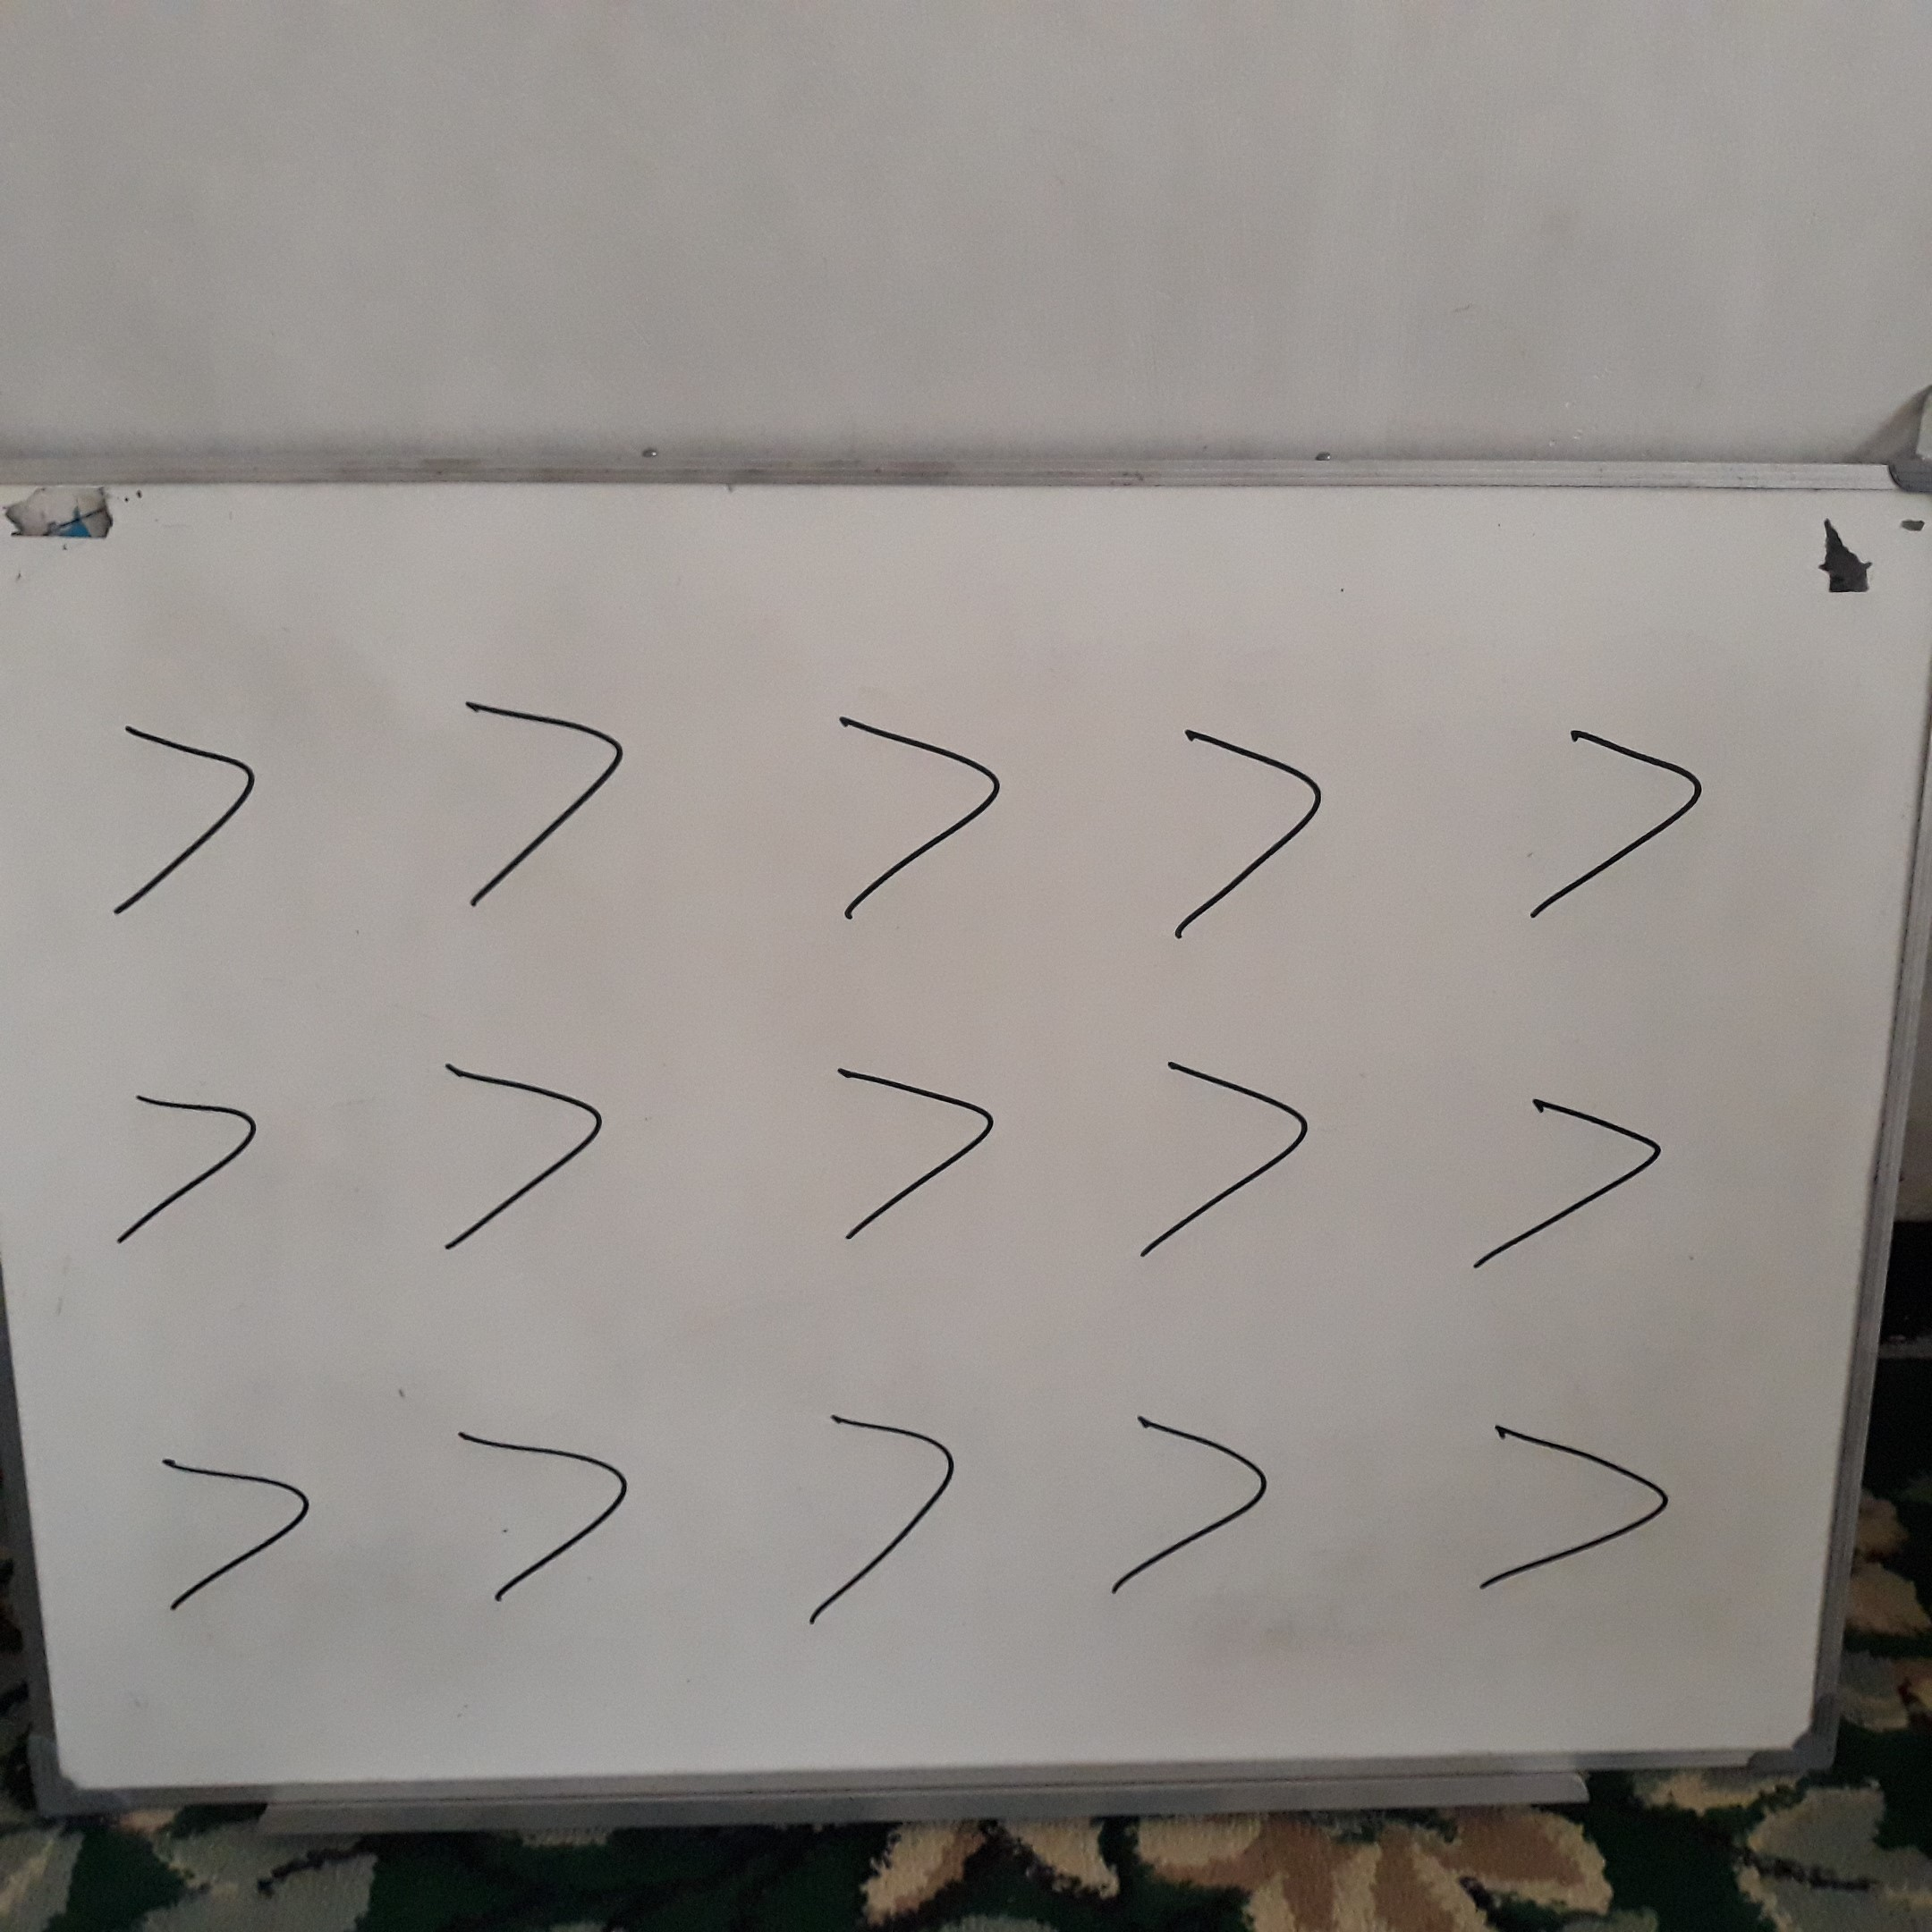morethan: (1458, 1055, 1669, 1296), (120, 1401, 331, 1641), (436, 1394, 648, 1634), (780, 1397, 991, 1638), (1082, 1387, 1293, 1628), (1468, 1387, 1679, 1628), (1518, 707, 1716, 945), (418, 1036, 615, 1274), (812, 1034, 1010, 1272), (1123, 1045, 1321, 1283), (1148, 715, 1346, 953), (97, 1044, 295, 1282), (445, 689, 643, 927), (818, 691, 1016, 928), (89, 701, 270, 931)
